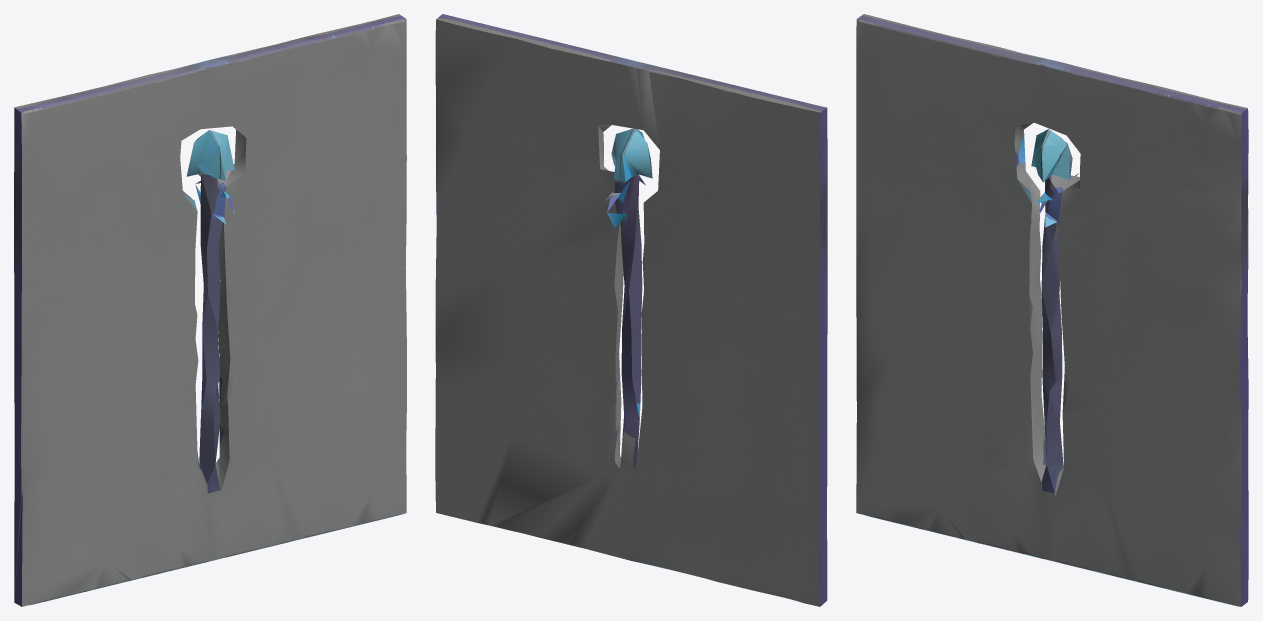
Rendered from xx_sage_staff_3d.glb.
The picture shows the model from 3 angles, left to right: view 1: azimuth 30°, elevation 25°; view 2: azimuth 150°, elevation 25°; view 3: azimuth 330°, elevation 25°; orthographic projection.
Visible parts, largest first — view 1: xx_sage_staff_3d; view 2: xx_sage_staff_3d; view 3: xx_sage_staff_3d.
Part boxes in pixels (bbox=[...]): xx_sage_staff_3d: bbox=[14, 14, 406, 606]; xx_sage_staff_3d: bbox=[435, 14, 827, 606]; xx_sage_staff_3d: bbox=[856, 14, 1248, 606].
Bounding box in the file's own units: 1.63 × 2 × 0.3325.
1 material, 1 textured.
